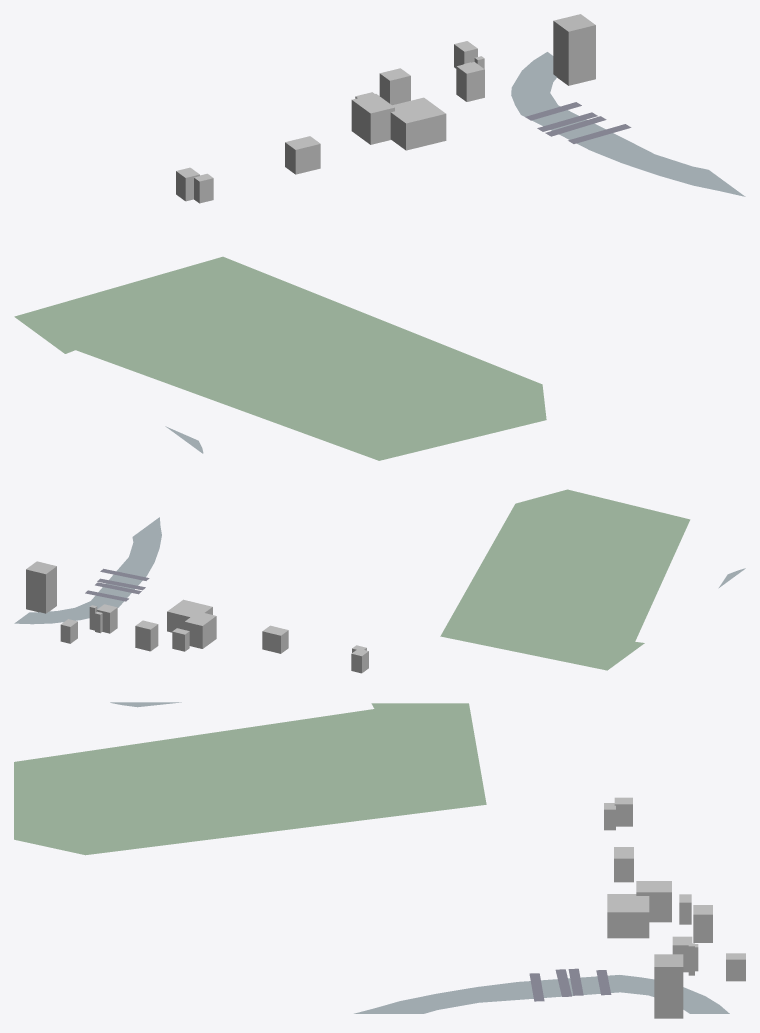
Rendered from 130_115_mid.glb.
3 views of the same model, one above another, from view 1: azimuth 30°, elevation 25°; view 2: azimuth 150°, elevation 25°; view 3: azimuth 270°, elevation 25° (orthographic). The views are drawn at different scales.
Bounding box in the file's own units: 506 × 39.81 × 497.
